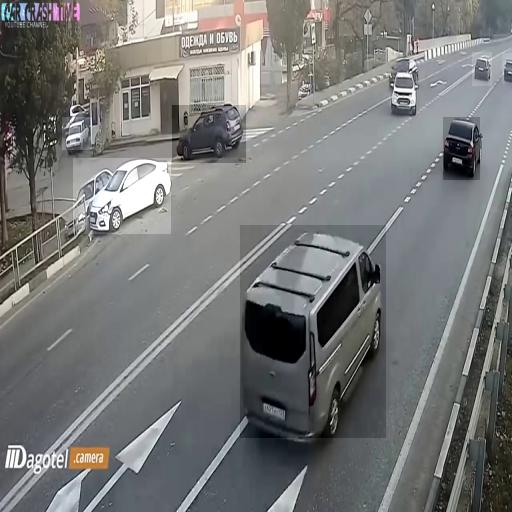小汽车: (240, 225, 386, 438), (172, 105, 246, 163), (443, 117, 480, 180), (391, 65, 419, 118), (62, 117, 92, 150), (472, 52, 492, 86), (502, 53, 512, 84)
小汽车撞小汽车: (73, 158, 171, 234)
